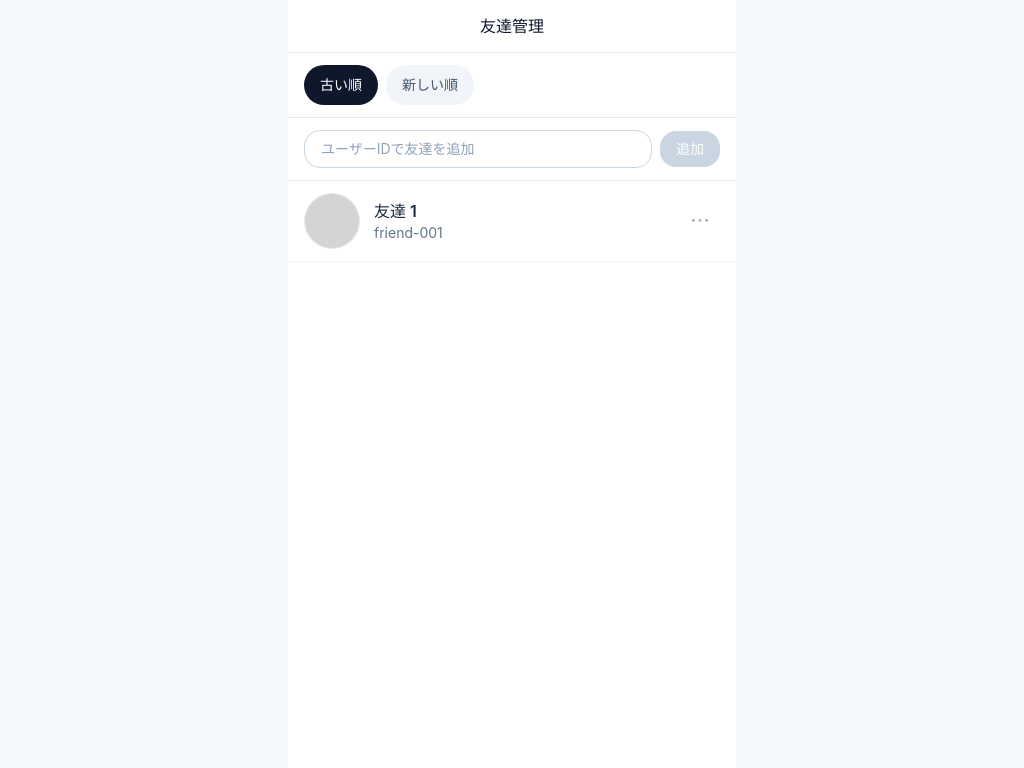
Test: FriendsPage › 詳細フライアウト › ブロックすると行がブロック中に切り替わる
The width and height of the screenshot is (1024, 768).
Click the button named "友達 1の詳細": (700, 221) 680,201 -> 720,241
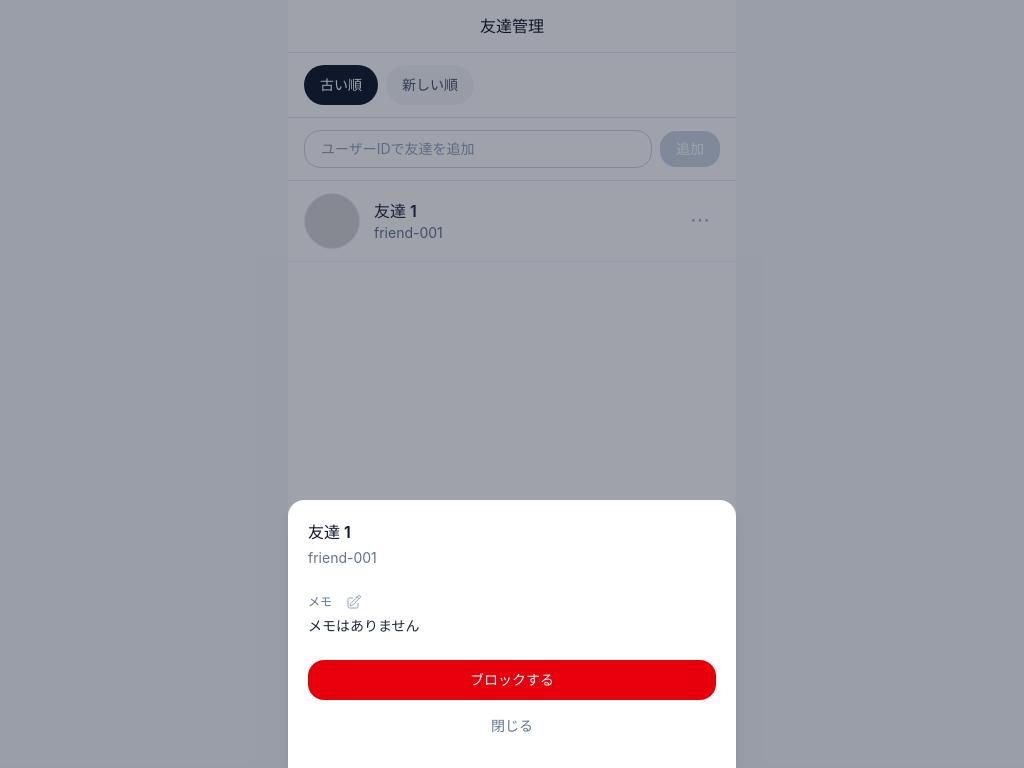
Click the button "ブロックする": (512, 680) 308,660 -> 716,700
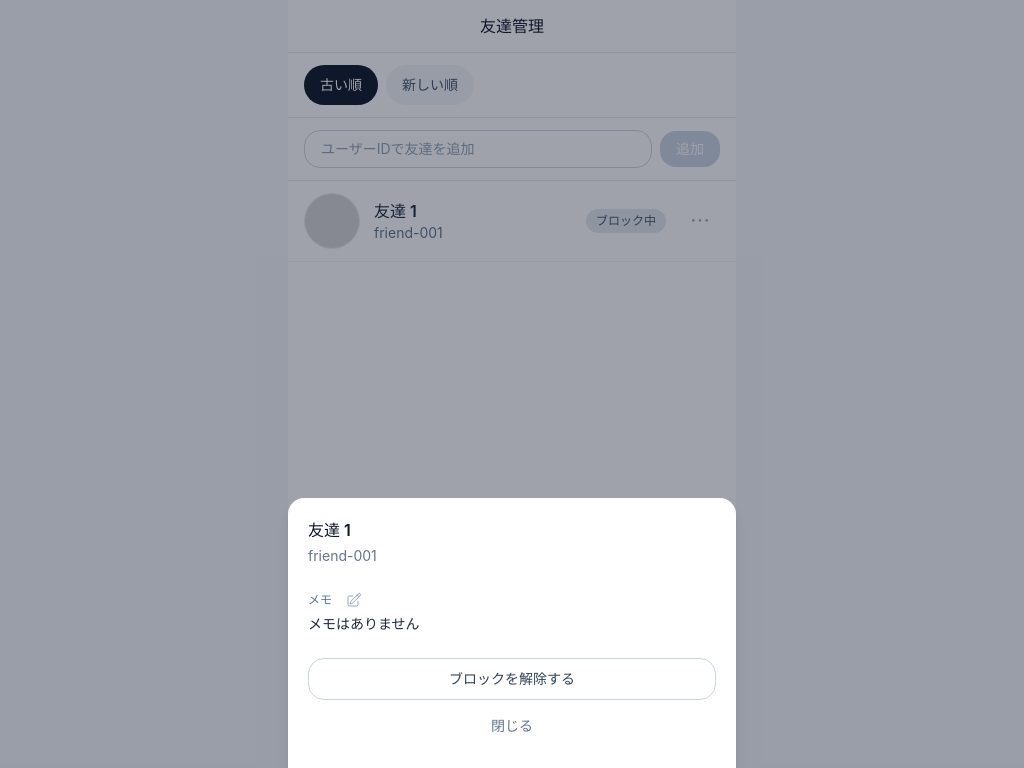
expect the text "ブロック中" is shown: met, box 586,209 -> 666,233
expect the button "ブロックを解除する" is shown: met, box 308,658 -> 716,700
